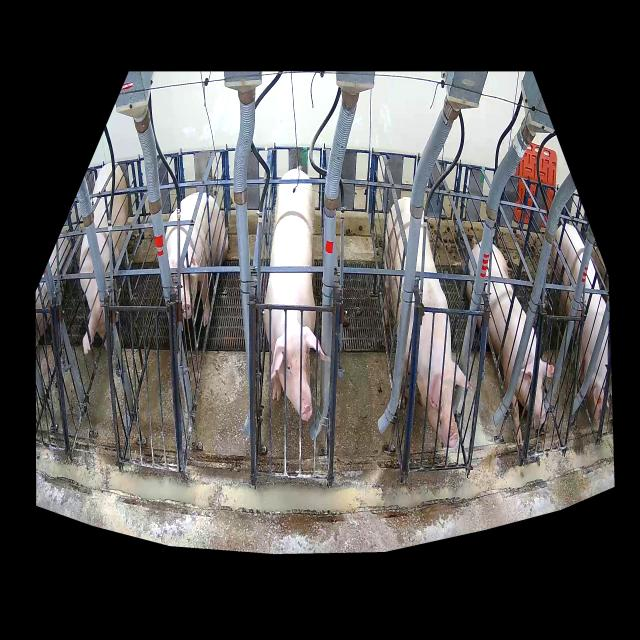pig: (383, 197, 471, 446), (466, 240, 554, 445), (264, 169, 331, 421), (550, 224, 608, 420), (80, 163, 129, 354), (165, 192, 228, 326)
